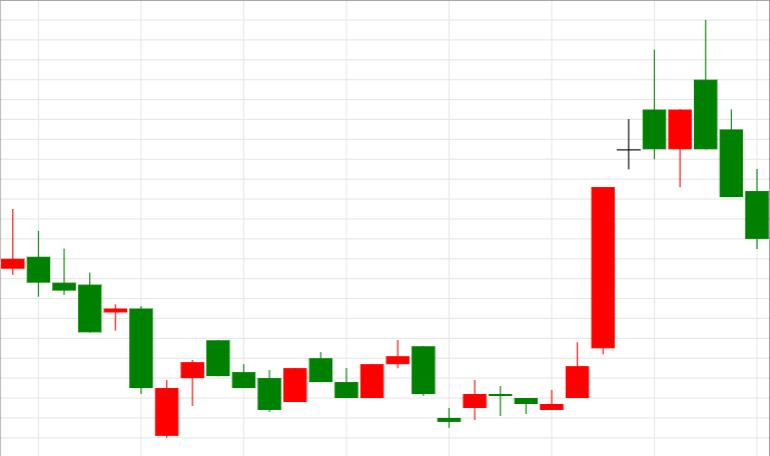three_black_crows_fall: (539, 19, 769, 411)
